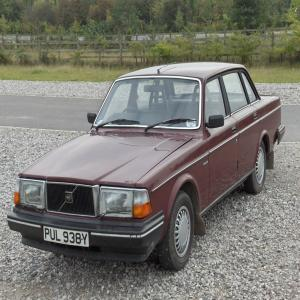Vehicle-registration-plate: (44, 226, 89, 249)
